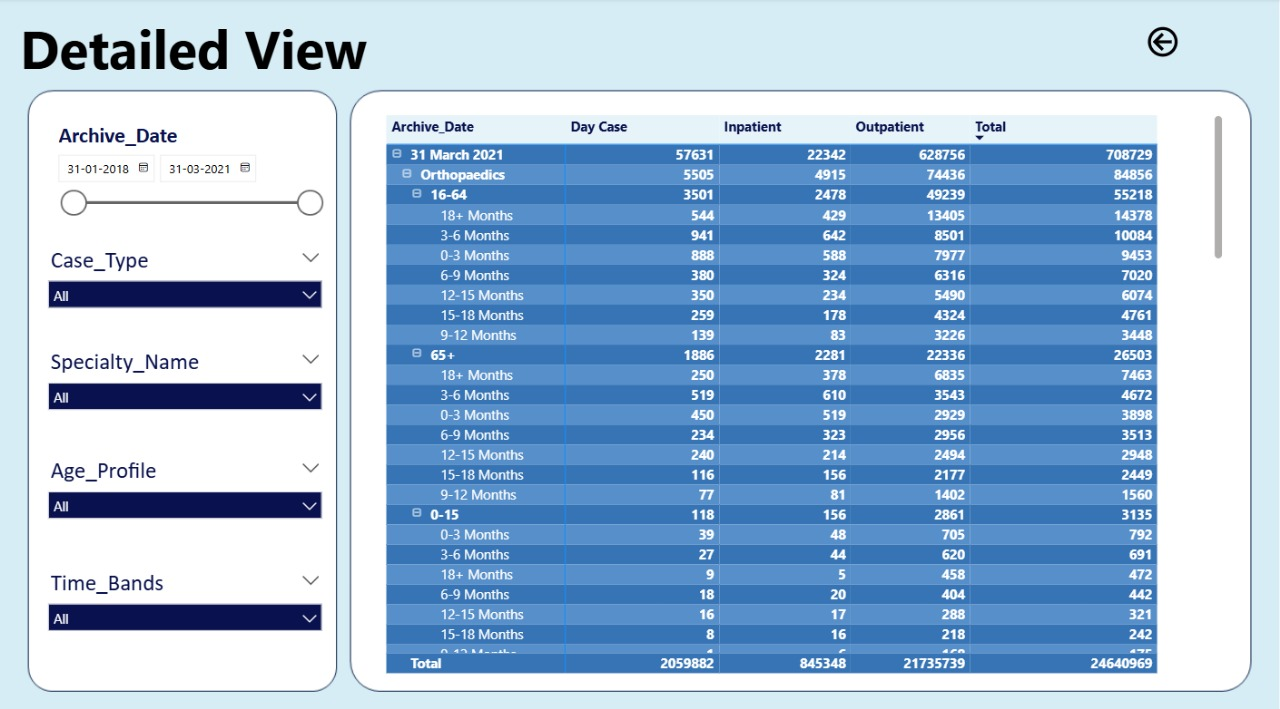

Layout of this report page (visuals, bound fields, positions):
{"tool":"powerbi","page":{"name":"Detail","canvas":[1280,720],"ordinal":1},"visuals":[{"type":"slicer","fields":{"Values":["All_Data.Archive_Date"]},"box":[46.5,119.1,285.8,154.3],"z":0},{"type":"slicer","fields":{"Values":["All_Data.Case_Type"]},"box":[38.4,243,294.2,101.2],"z":1000},{"type":"slicer","fields":{"Values":["All_Data.Specialty_Name"]},"box":[38.4,345.3,294.2,102.3],"z":2000},{"type":"textbox","box":[16.3,8.1,393,111.6],"z":3000},{"type":"slicer","fields":{"Values":["All_Data.Age_Profile"]},"box":[38.4,453.5,294.2,91.9],"z":4000},{"type":"slicer","fields":{"Values":["All_Data.Time_Bands"]},"box":[38.4,566.3,294.2,89.5],"z":5000},{"type":"pivotTable","fields":{"Rows":["All_Data.Archive_Date","All_Data.Specialty_Name","All_Data.Age_Profile","All_Data.Time_Bands"],"Columns":["All_Data.Case_Type"],"Values":["Sum(All_Data.Total)"]},"box":[382.2,112.3,846.1,568.2],"z":6000},{"type":"actionButton","box":[1143.1,24,99.7,39.6],"z":7000}]}

Visuals, with their boxes in screenshot pixels (x1, y1, x2, y2), scaled from the page's 1280x720 canvas onto the 1280x709 screenshot:
slicer - All_Data.Archive_Date: region(46, 117, 332, 269)
slicer - All_Data.Case_Type: region(38, 239, 333, 339)
slicer - All_Data.Specialty_Name: region(38, 340, 333, 441)
textbox: region(16, 8, 409, 118)
slicer - All_Data.Age_Profile: region(38, 447, 333, 537)
slicer - All_Data.Time_Bands: region(38, 558, 333, 646)
pivotTable - All_Data.Archive_Date x All_Data.Specialty_Name: region(382, 111, 1228, 670)
actionButton: region(1143, 24, 1243, 63)
